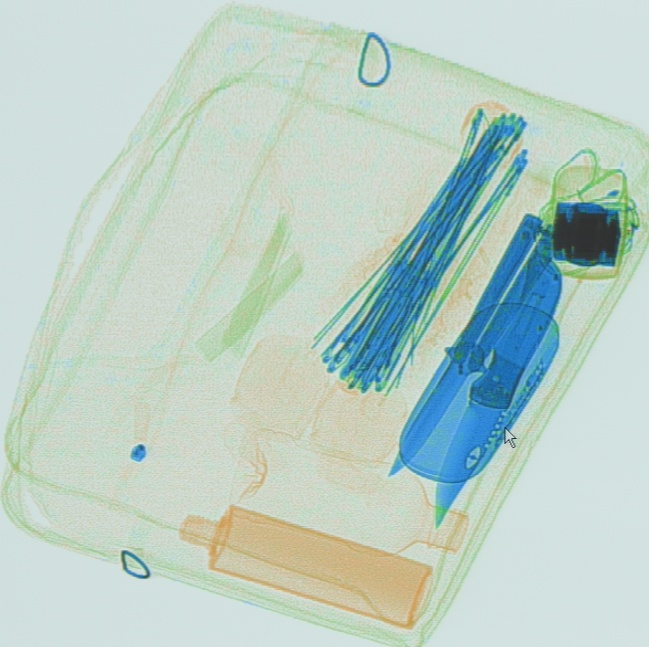knife: (384, 211, 557, 479), (432, 247, 563, 528)
